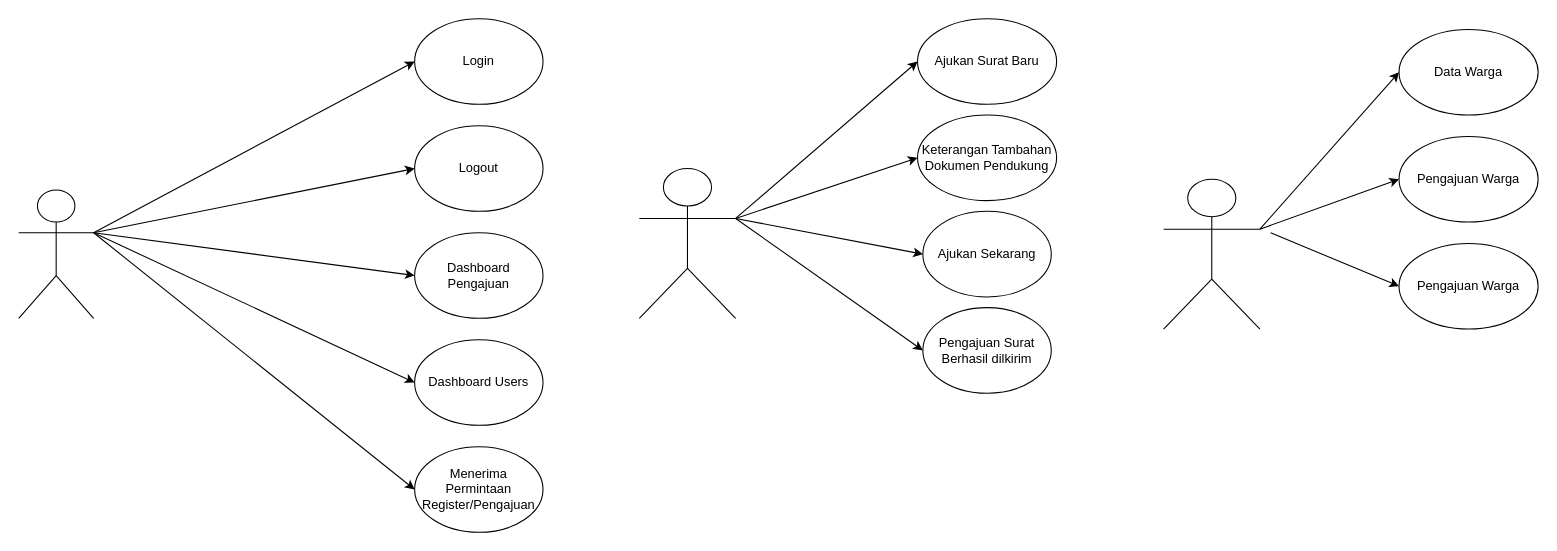
Some shapes in this 1557 by 551 pixel diagram are drawn without their labels. The shapes that lost their labels are listed below. From the top down, each one's centre as x and y in pixels, then its label:
At pixel 56 253: "Admin".
At pixel 687 242: "Users".
At pixel 1211 253: "RT".
